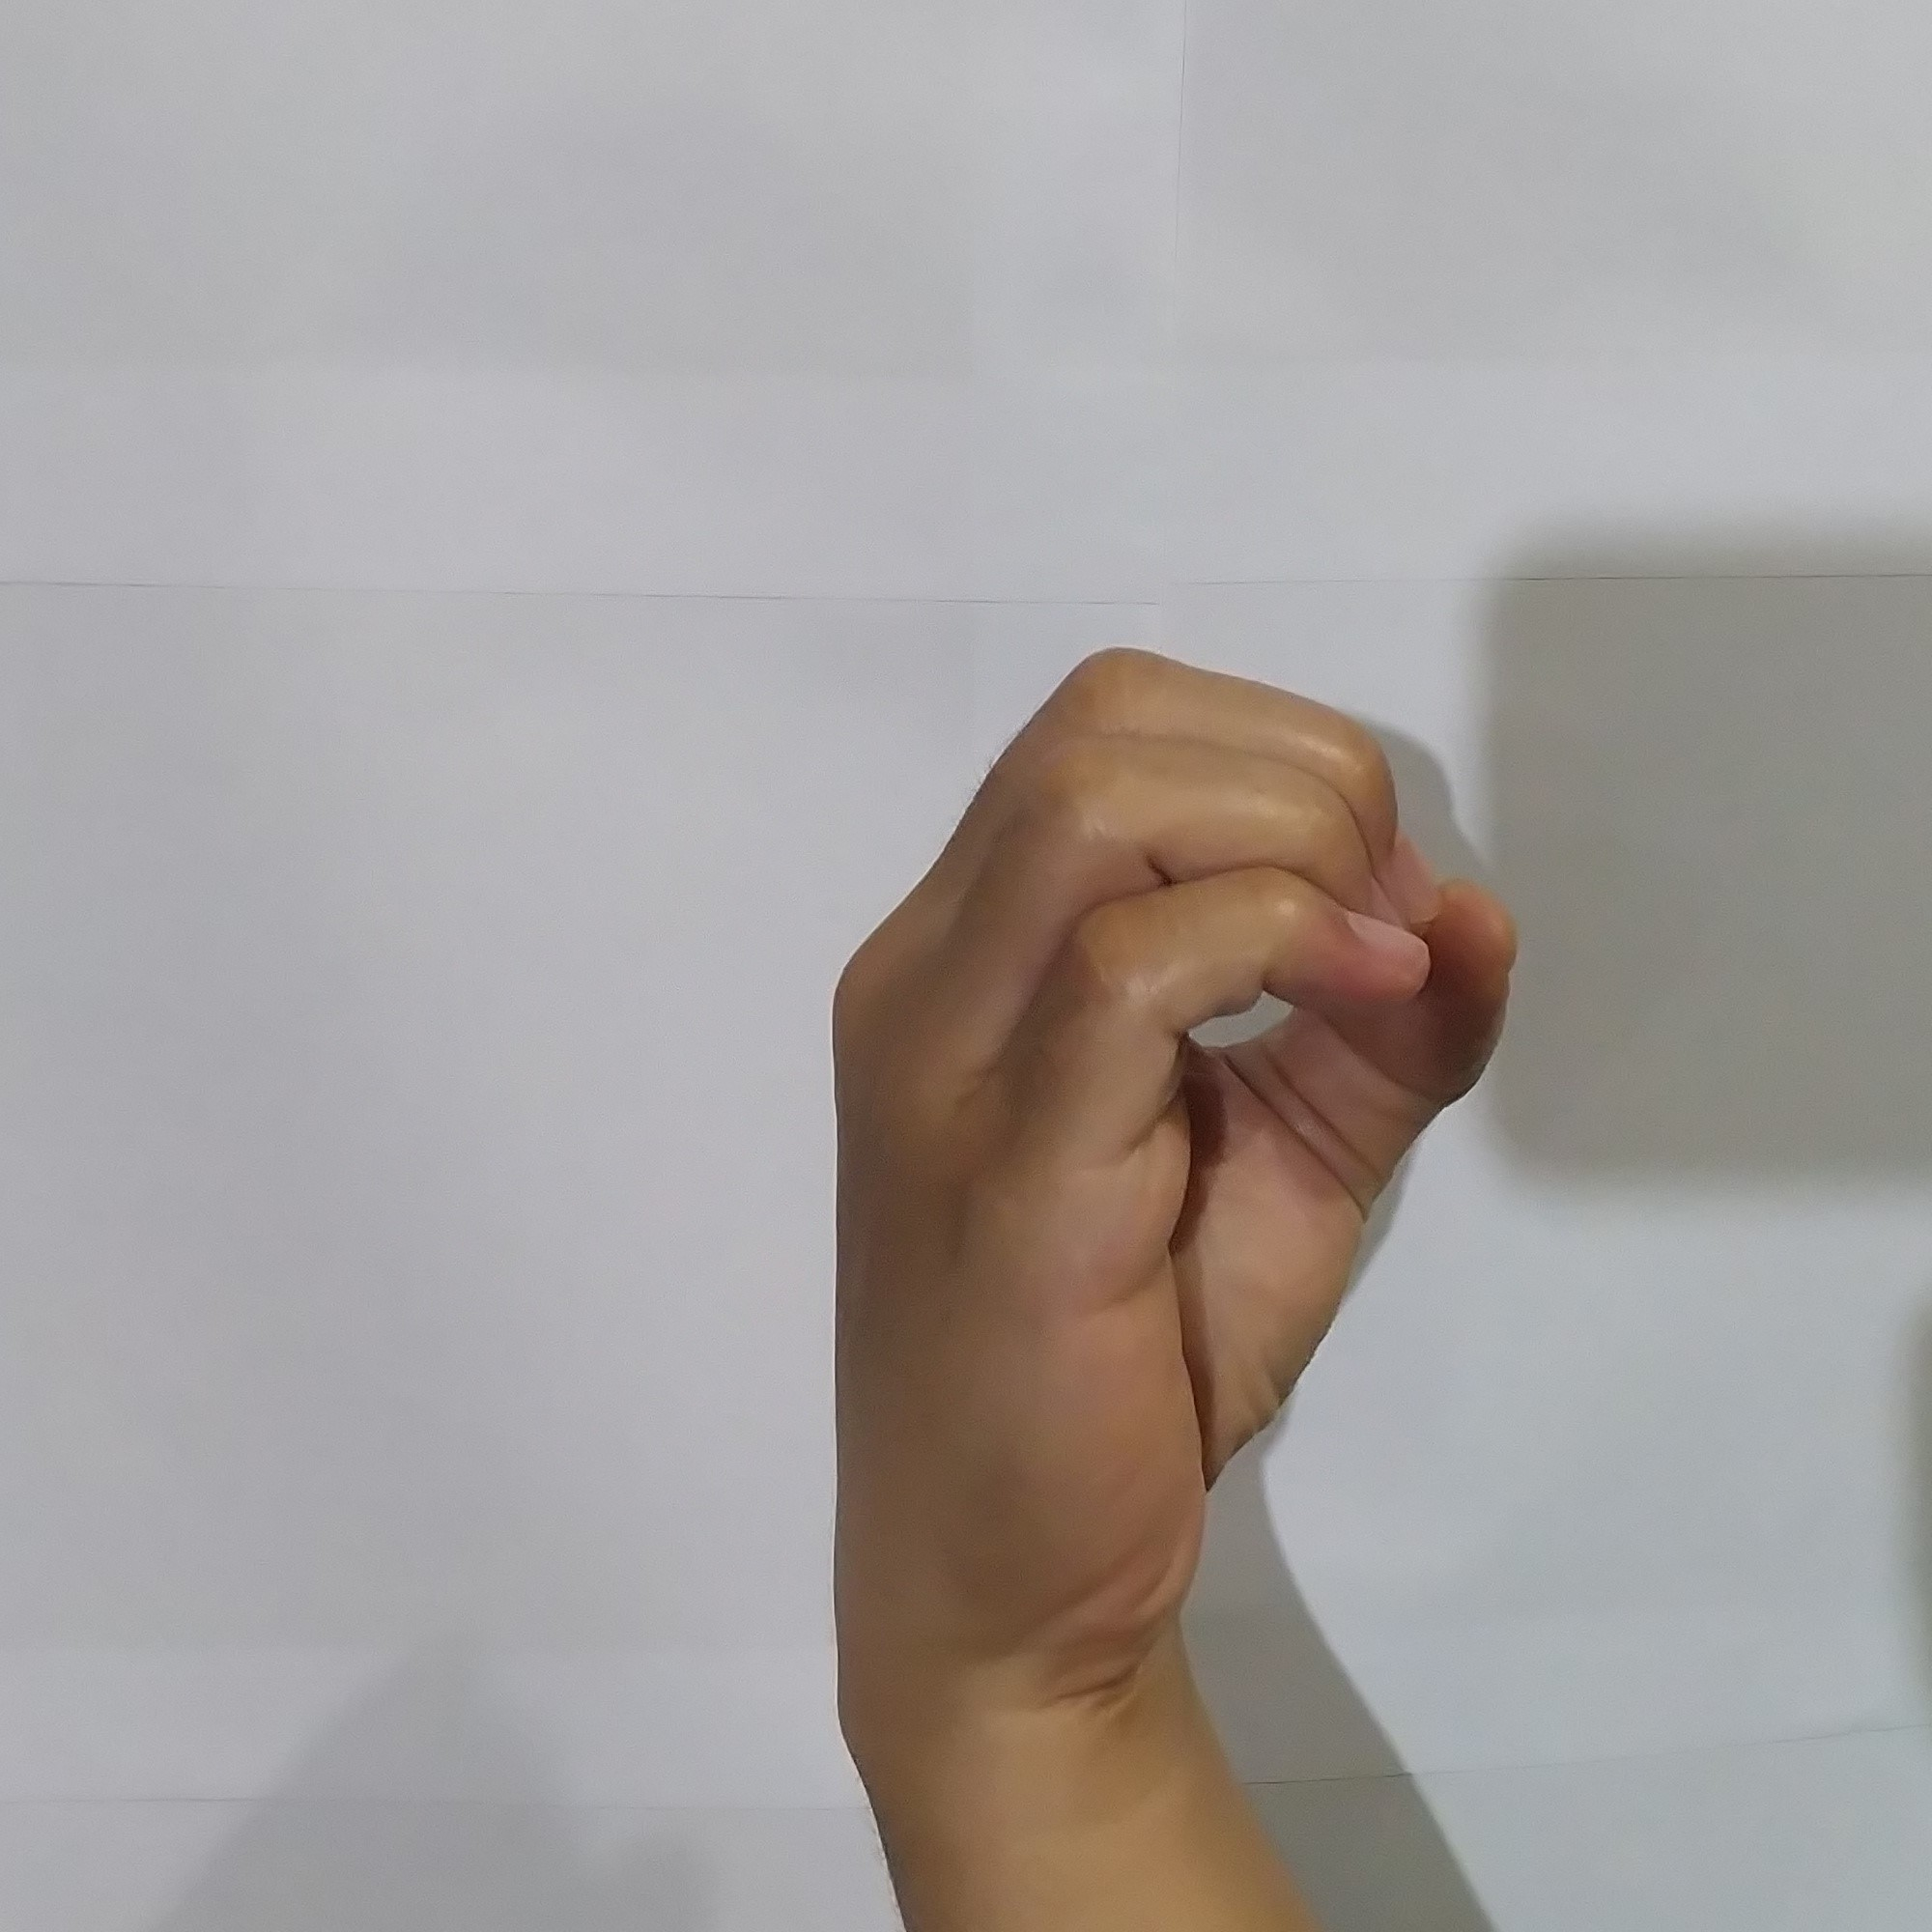O: (793, 617, 1543, 1656)
